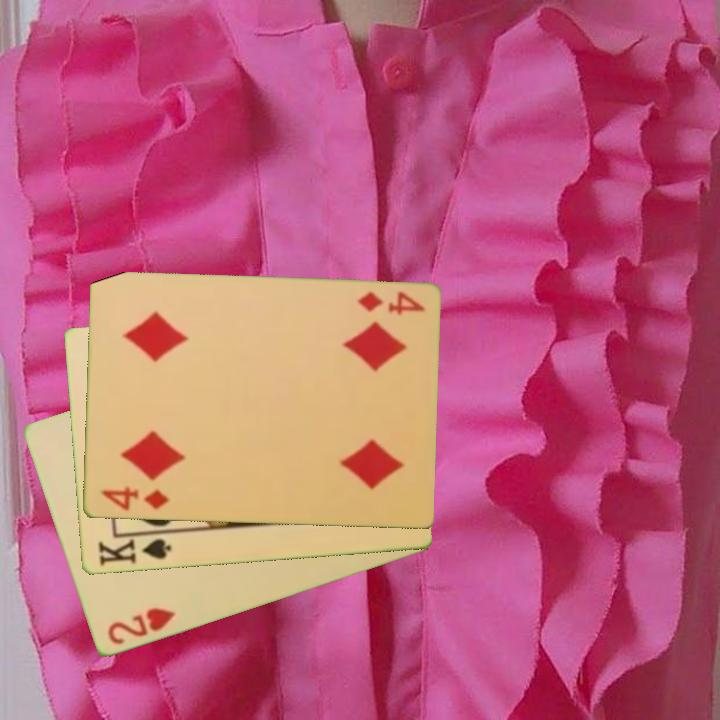2h: (103, 604, 178, 648)
4d: (353, 288, 427, 319), (97, 484, 171, 514)
Ks: (94, 530, 173, 569)
